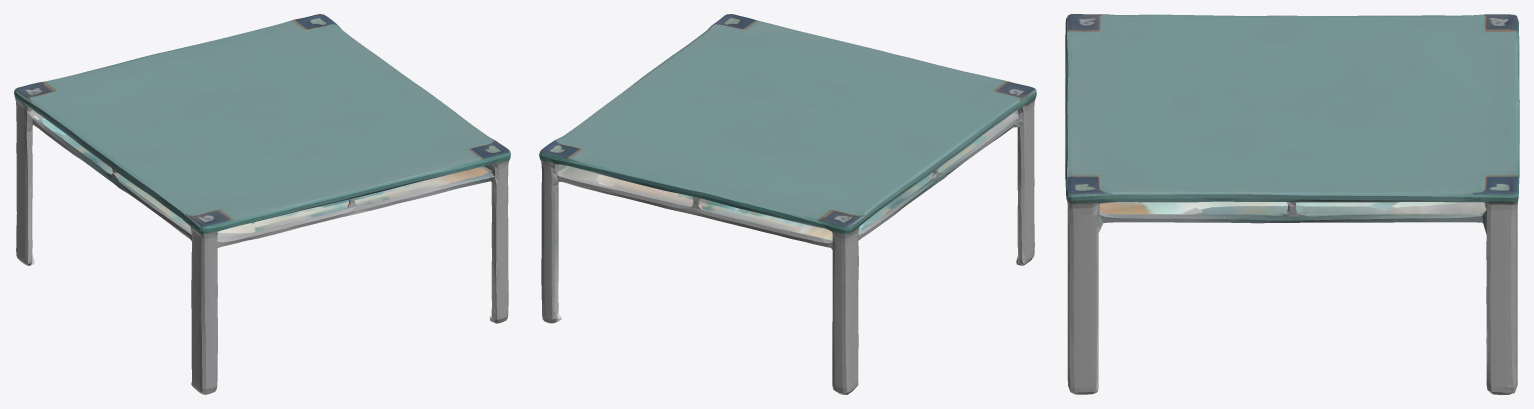
Rendered from coffee2.glb.
3 renders of one model, left to right at view 1: azimuth 30°, elevation 25°; view 2: azimuth 150°, elevation 25°; view 3: azimuth 270°, elevation 25°, orthographic. The views are drawn at different scales.
Visible parts, largest first — view 1: tripo_node_81f8eea3-8fbe-491d-b06a-e2535d31c68c; view 2: tripo_node_81f8eea3-8fbe-491d-b06a-e2535d31c68c; view 3: tripo_node_81f8eea3-8fbe-491d-b06a-e2535d31c68c.
Boxes of the visible parts, <box> form: tripo_node_81f8eea3-8fbe-491d-b06a-e2535d31c68c: <box>14,14,510,394</box>; tripo_node_81f8eea3-8fbe-491d-b06a-e2535d31c68c: <box>539,14,1036,394</box>; tripo_node_81f8eea3-8fbe-491d-b06a-e2535d31c68c: <box>1065,14,1519,394</box>.
Bounding box in the file's own units: 0.9427 × 0.4993 × 0.9997.
1 material, 1 textured.
